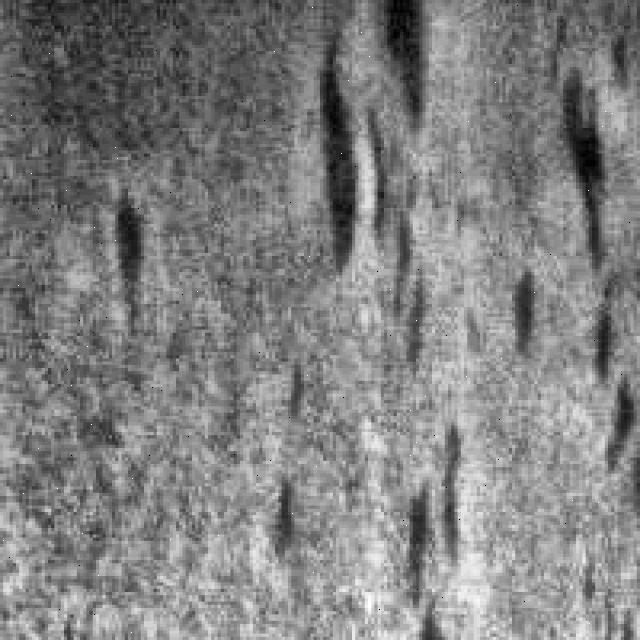Patches: (525, 22, 637, 470), (358, 0, 464, 371), (300, 15, 374, 278), (403, 410, 474, 628), (92, 170, 170, 358), (502, 246, 557, 362), (259, 467, 314, 560)
